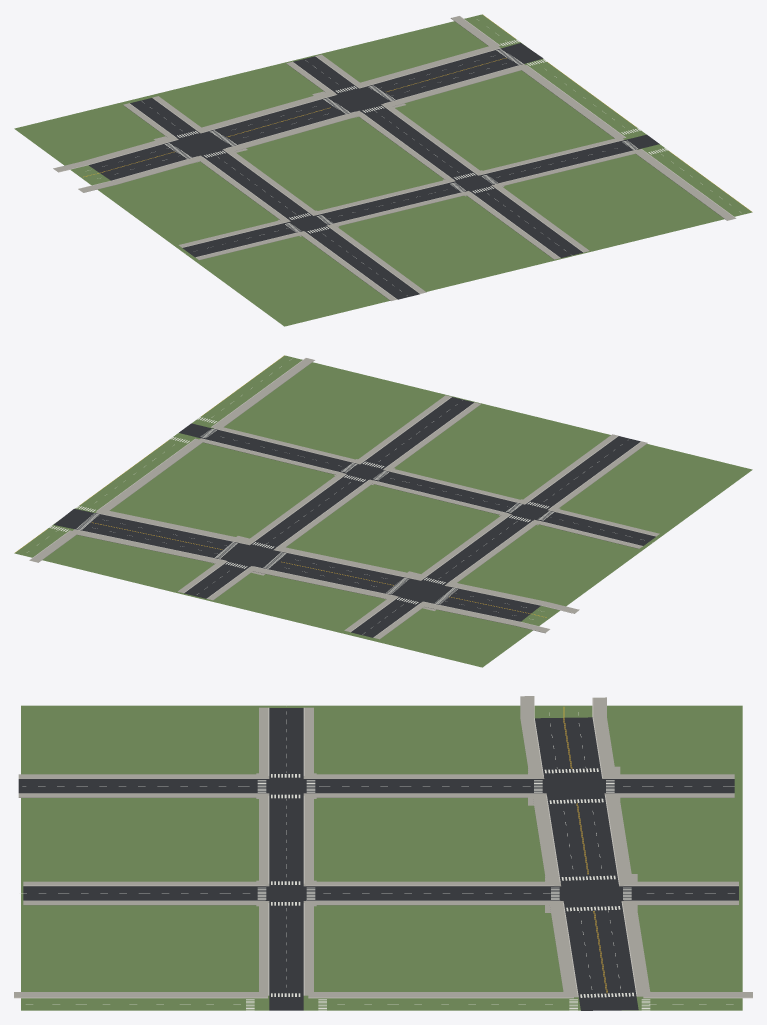
The model's file is Ground_3_6.fbx.
The picture shows the model from 3 angles, top to bottom: view 1: azimuth 30°, elevation 25°; view 2: azimuth 150°, elevation 25°; view 3: azimuth 270°, elevation 25°; orthographic projection. The views are drawn at different scales.
Parts seen in each view (by area): view 1: Ground_3_6; view 2: Ground_3_6; view 3: Ground_3_6.
Boxes of the visible parts, x1,y1,x2,y2 form: Ground_3_6: (14,14,752,326); Ground_3_6: (14,355,752,667); Ground_3_6: (14,696,752,1010).
Bounding box in the file's own units: 258 × 0.14 × 256.
